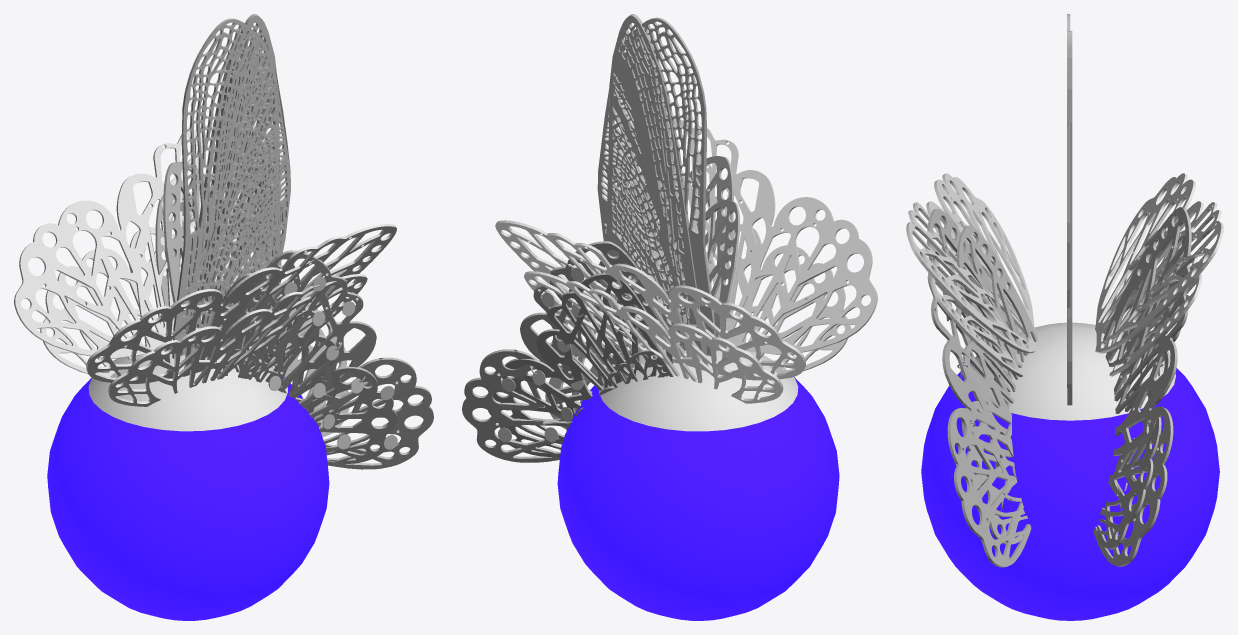
Rendered from mobile.glb.
3 renders of one model, left to right at view 1: azimuth 30°, elevation 25°; view 2: azimuth 150°, elevation 25°; view 3: azimuth 270°, elevation 25°, orthographic. The views are drawn at different scales.
Parts seen in each view (by area): view 1: led1_lod0, d1_lod0, b1_lod0, led2_lod0, d2_lod0, b2_lod0; view 2: led1_lod0, d2_lod0, b1_lod0, led2_lod0, d1_lod0, b2_lod0, b3_lod0; view 3: led1_lod0, b1_lod0, b2_lod0, led2_lod0, d2_lod0, d1_lod0.
Boxes of the visible parts, x1,y1,x2,y2 form: led1_lod0: (14,122,396,620); d1_lod0: (172,18,290,358); b1_lod0: (163,161,433,469); led2_lod0: (40,185,367,406); d2_lod0: (181,14,281,355); b2_lod0: (155,193,397,464); led1_lod0: (495,114,877,620); d2_lod0: (606,14,701,359); b1_lod0: (462,156,734,462); led2_lod0: (524,181,850,403); d1_lod0: (597,17,715,356); b2_lod0: (488,200,739,457); b3_lod0: (564,350,673,437); led1_lod0: (906,173,1223,620); b1_lod0: (927,207,1191,567); b2_lod0: (954,225,1190,549); led2_lod0: (930,229,1201,377); d2_lod0: (1067,31,1072,405); d1_lod0: (1067,14,1070,387).
Size of what is drawn, in the model's own units: 0.2043 by 0.3369 by 0.1584.
